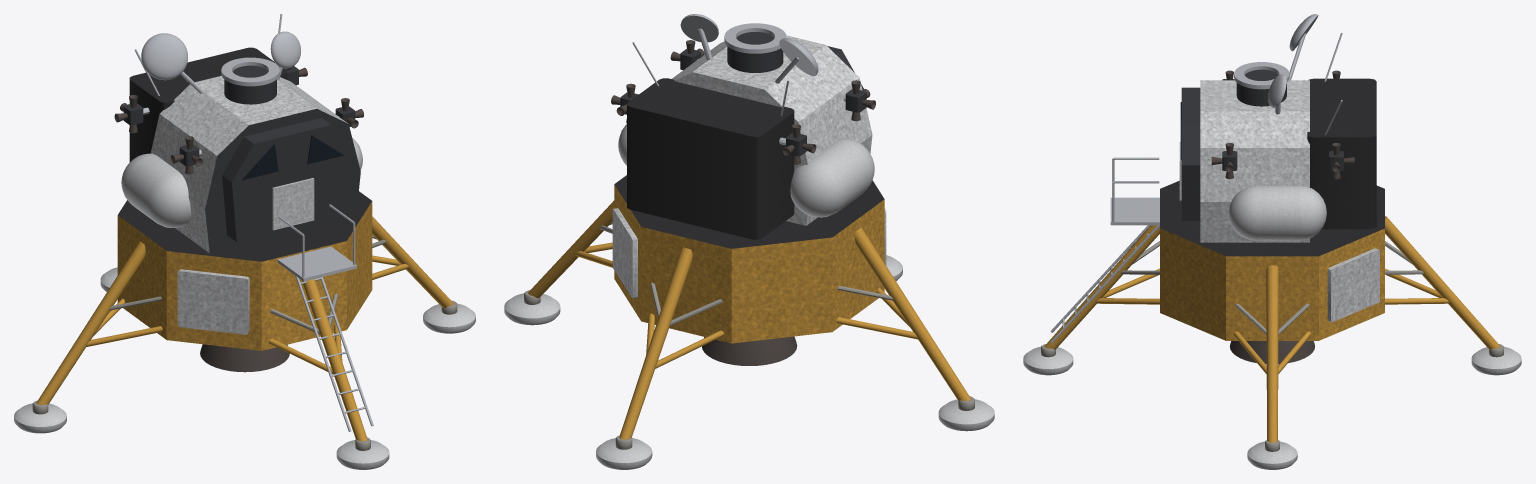
File: lunar-lander.glb
3 views of the same model, side by side, from view 1: azimuth 30°, elevation 25°; view 2: azimuth 150°, elevation 25°; view 3: azimuth 270°, elevation 25° (orthographic). The views are drawn at different scales.
Parts seen in each view (by area): view 1: Descent stage, Ascent stage cabin, Landing legs, Cabin front face, Docking tunnel and antennas, Descent stage equipment bays, Ascent propellant tanks, Footpads, Ascent stage equipment bay, Thruster quads, Descent engine, Front hatch (+1 smaller); view 2: Descent stage, Ascent stage equipment bay, Landing legs, Ascent stage cabin, Ascent propellant tanks, Docking tunnel and antennas, Footpads, Thruster quads, Descent engine, Descent stage equipment bays; view 3: Descent stage, Ascent stage cabin, Landing legs, Ascent stage equipment bay, Ascent propellant tanks, Footpads, Docking tunnel and antennas, Descent stage equipment bays, Cabin front face, Thruster quads, Descent engine.
Part boxes in pixels (x1,y1,x2,y2): Descent stage: [117, 191, 372, 350]; Ascent stage cabin: [150, 76, 360, 253]; Landing legs: [32, 204, 457, 450]; Cabin front face: [222, 117, 353, 242]; Docking tunnel and antennas: [134, 14, 300, 104]; Descent stage equipment bays: [177, 269, 249, 334]; Ascent propellant tanks: [121, 137, 362, 227]; Footpads: [14, 267, 475, 469]; Ascent stage equipment bay: [129, 47, 287, 161]; Thruster quads: [114, 66, 363, 174]; Descent engine: [200, 344, 289, 372]; Front hatch: [272, 178, 314, 230]; Descent stage: [614, 175, 884, 343]; Ascent stage equipment bay: [627, 78, 794, 239]; Landing legs: [524, 107, 974, 449]; Ascent stage cabin: [672, 35, 872, 225]; Ascent propellant tanks: [618, 124, 874, 217]; Docking tunnel and antennas: [632, 14, 818, 116]; Footpads: [504, 255, 994, 469]; Thruster quads: [611, 40, 875, 164]; Descent engine: [702, 336, 797, 365]; Descent stage equipment bays: [612, 208, 886, 297]; Descent stage: [1160, 180, 1384, 340]; Ascent stage cabin: [1200, 80, 1309, 242]; Landing legs: [1041, 157, 1503, 451]; Ascent stage equipment bay: [1307, 78, 1376, 229]; Ascent propellant tanks: [1228, 185, 1326, 240]; Footpads: [1023, 346, 1521, 469]; Docking tunnel and antennas: [1234, 14, 1342, 135]; Descent stage equipment bays: [1327, 248, 1379, 322]; Cabin front face: [1181, 87, 1200, 220]; Thruster quads: [1211, 70, 1354, 179]; Descent engine: [1230, 341, 1314, 364].
Size of the model in its own units: 9.34 by 6.65 by 9.34.
9 materials, 9 textured.
